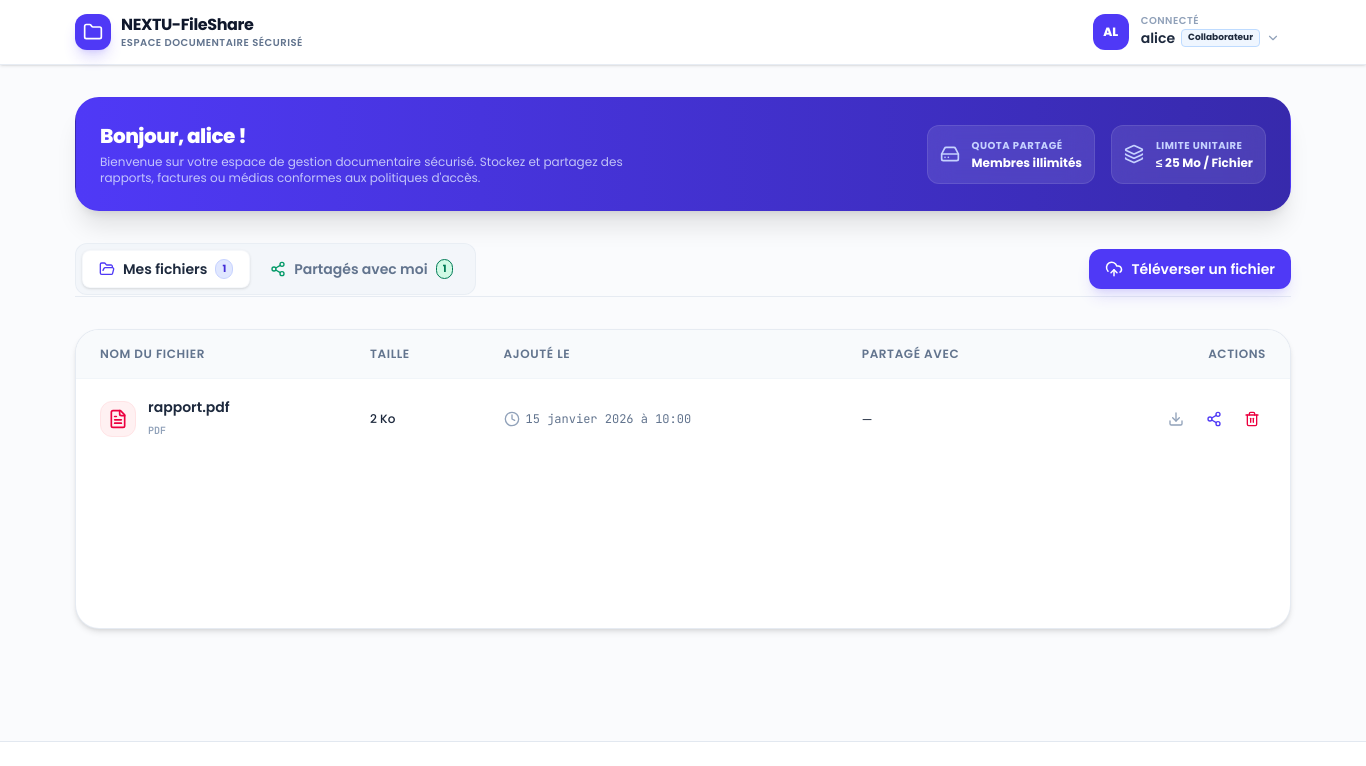
Test case: Dashboard › opens share modal and shares with eligible user
The width and height of the screenshot is (1366, 766).
Click the button titled "Gérer le partage": [1214, 419] box [1200,405,1228,433]
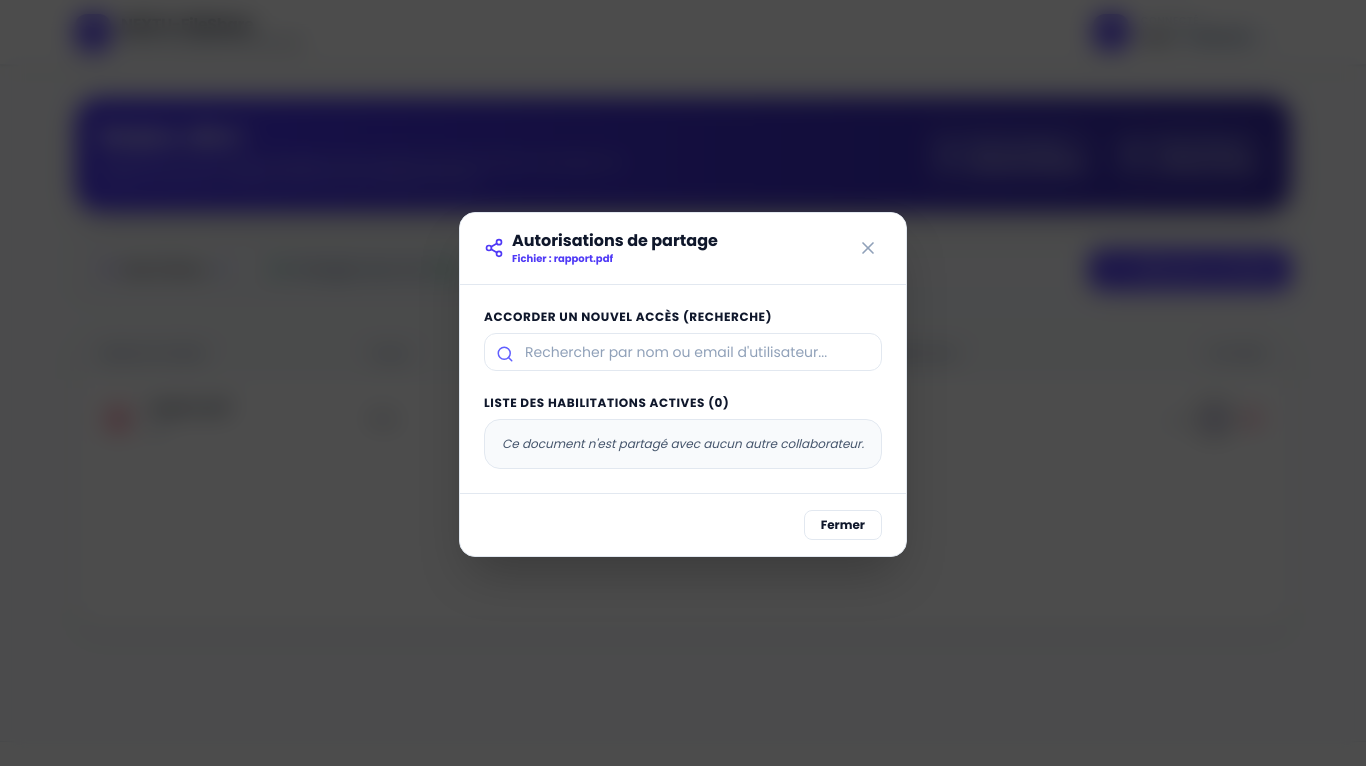
In the field with placeholder "Rechercher par nom ou email d'utilisateur...": [683, 352] box [484,332,882,370], type "bob"
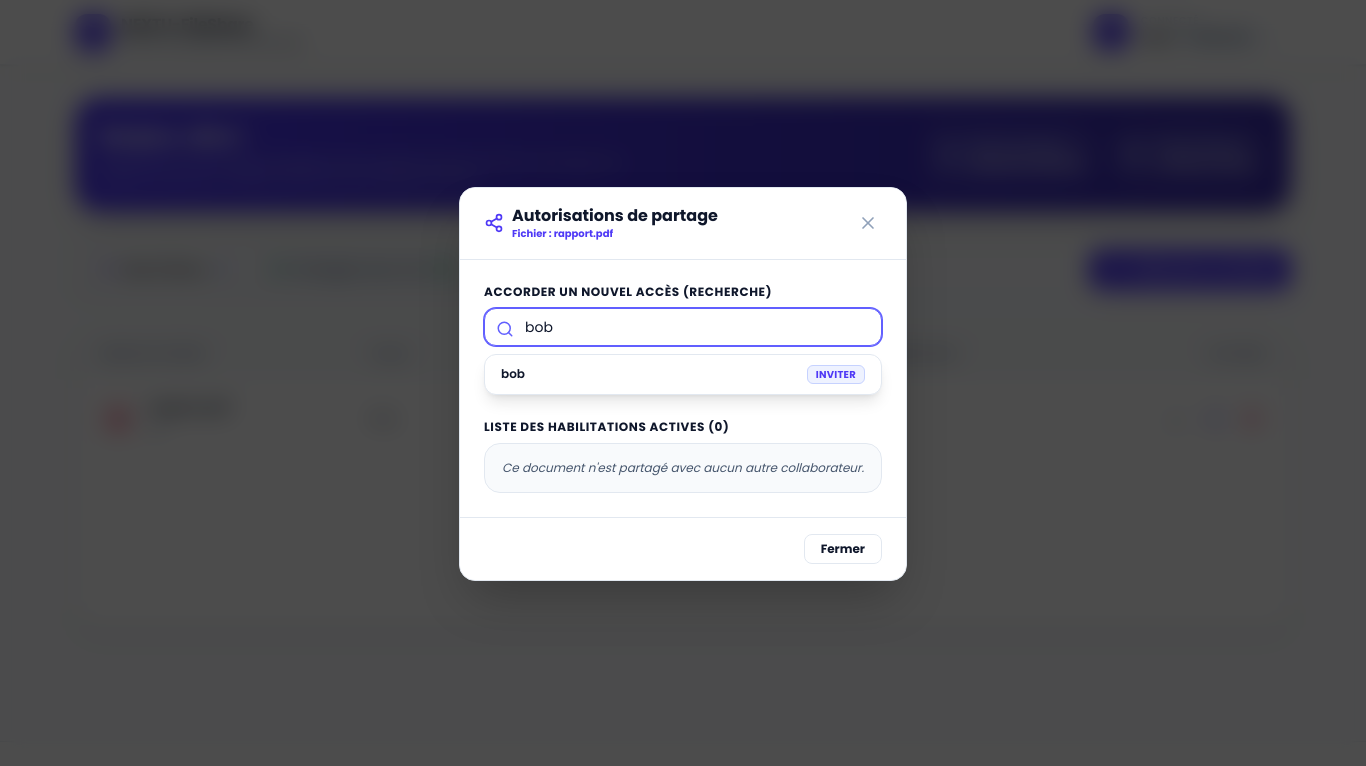
Click the button "bob Inviter": [836, 374] box [485,355,881,394]
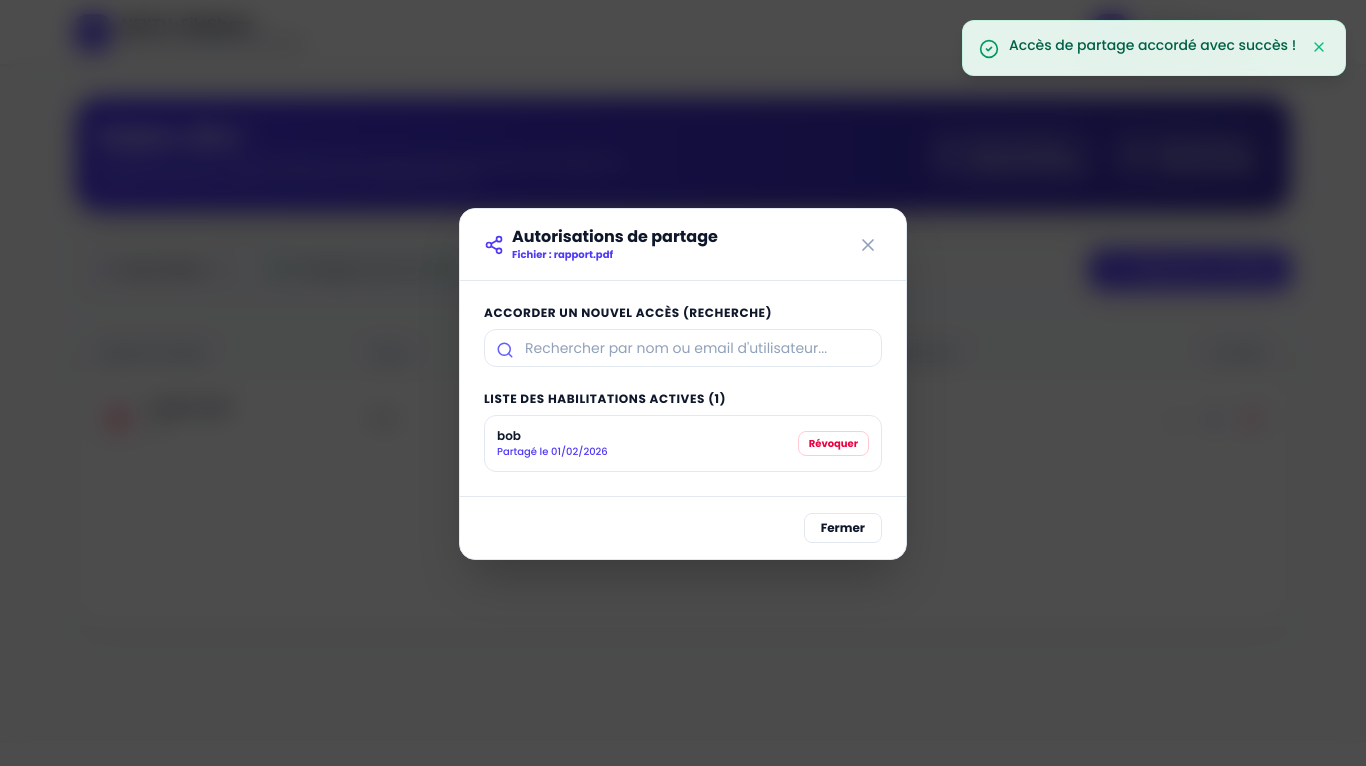
Expected: the text "Accès de partage accordé avec succès !" is shown, [1009,37,1296,54]
